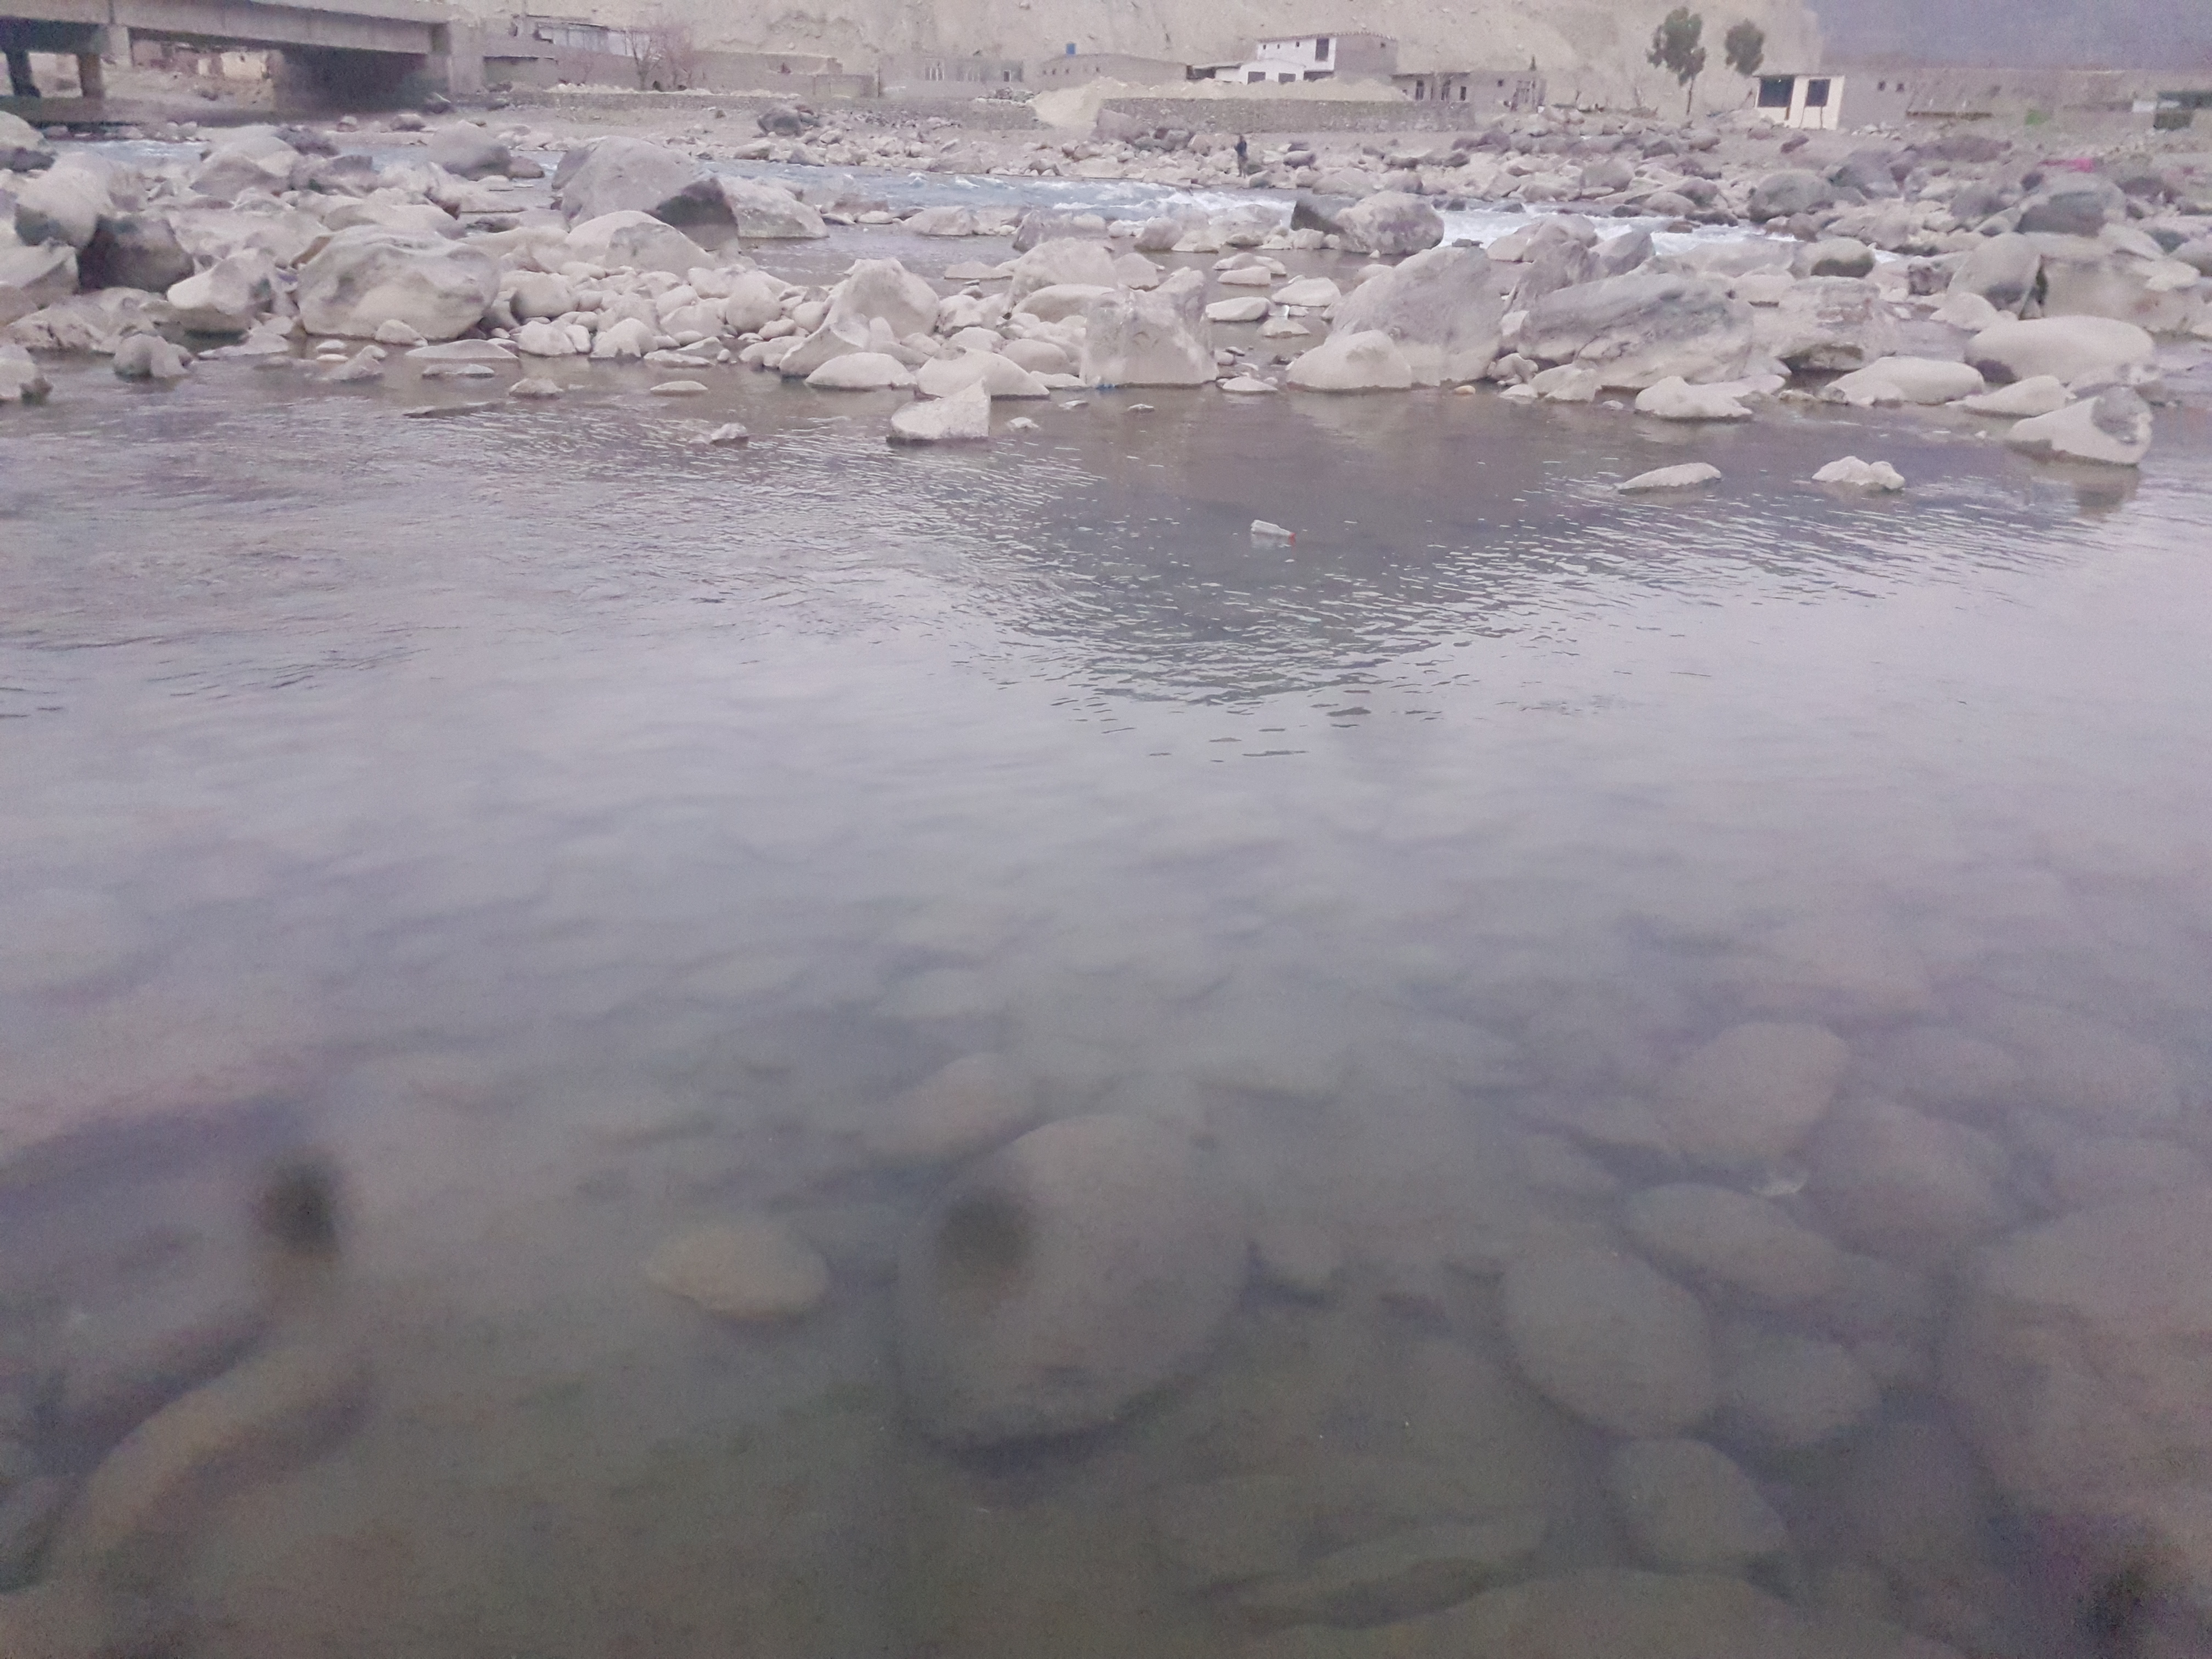Plastic Bottle: (1251, 519, 1294, 538), (1097, 382, 1116, 390)
